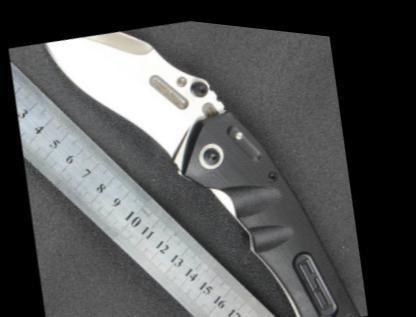knife: (18, 3, 256, 198)
